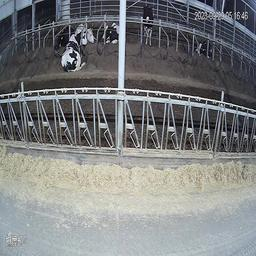cow: (61, 33, 87, 70), (142, 3, 154, 49), (52, 25, 73, 50), (75, 21, 95, 45), (101, 20, 119, 46), (197, 37, 215, 60)
